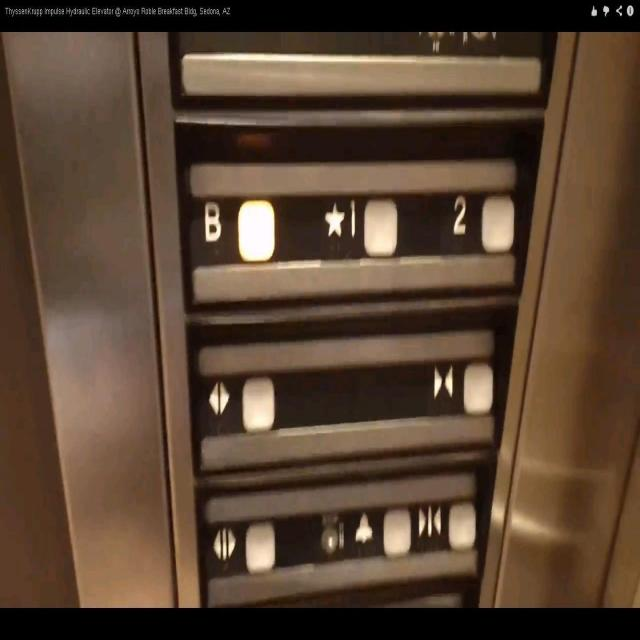2: (435, 184, 518, 262)
B: (198, 190, 278, 271)
alarm: (351, 502, 413, 562)
bt_keyhole: (282, 504, 348, 573)
close: (424, 353, 496, 423), (416, 495, 477, 555)
open: (201, 366, 278, 443), (206, 514, 280, 582)
s1: (315, 187, 400, 265)
